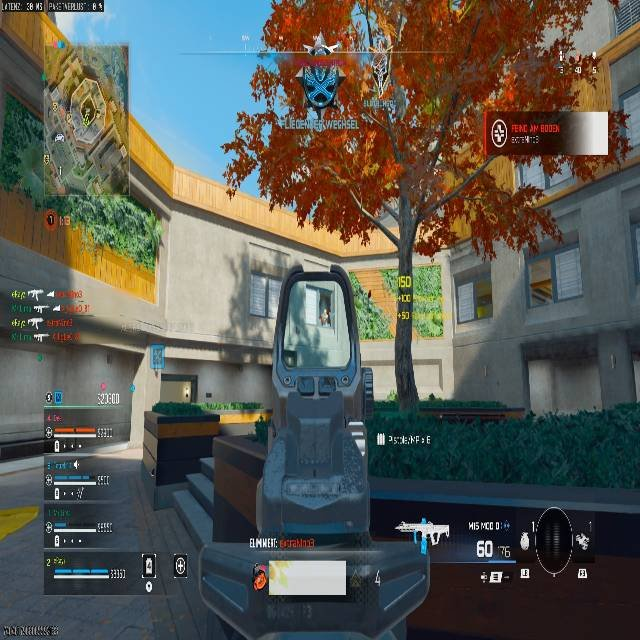player: (219, 113, 265, 200)
